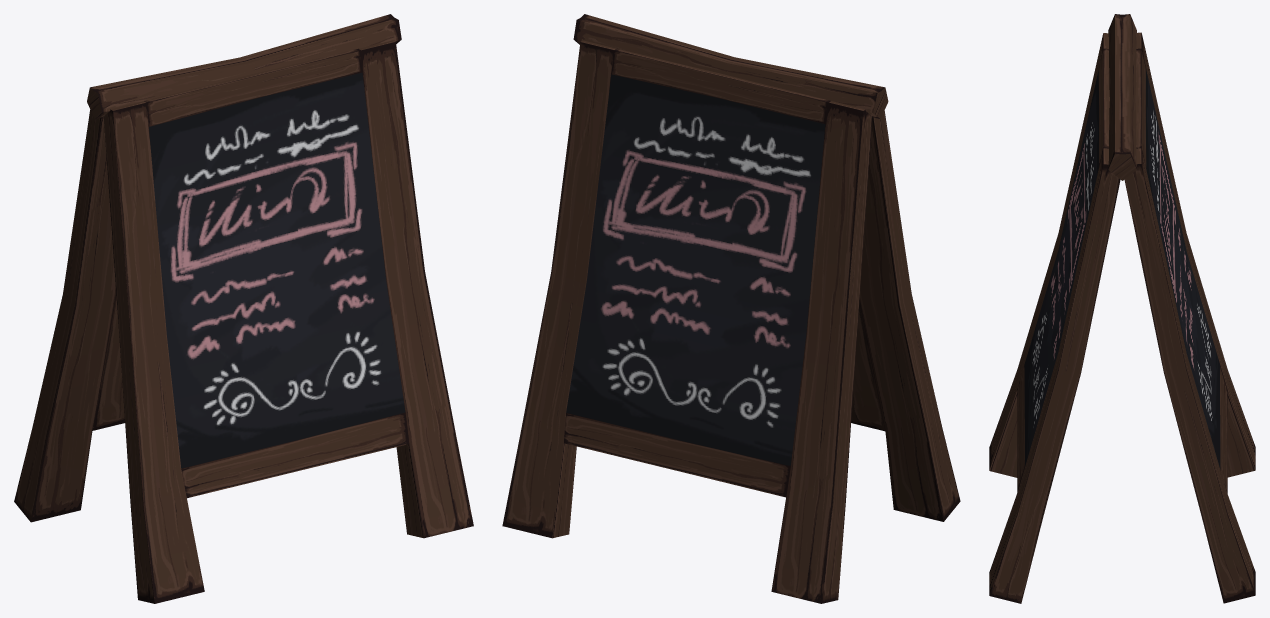
Rendered from SM_PROP_infoboard_city_02.fbx.
3 views of the same model, side by side, from view 1: azimuth 30°, elevation 25°; view 2: azimuth 150°, elevation 25°; view 3: azimuth 270°, elevation 25° (orthographic). The views are drawn at different scales.
Visible parts, largest first — view 1: SM_PROP_infoboard_city_02; view 2: SM_PROP_infoboard_city_02; view 3: SM_PROP_infoboard_city_02.
Part boxes in pixels (x1,y1,x2,y2): SM_PROP_infoboard_city_02: (14,14,473,603); SM_PROP_infoboard_city_02: (502,14,960,603); SM_PROP_infoboard_city_02: (989,14,1255,603).
Bounding box in the file's own units: 70.4 × 98.53 × 53.36.
